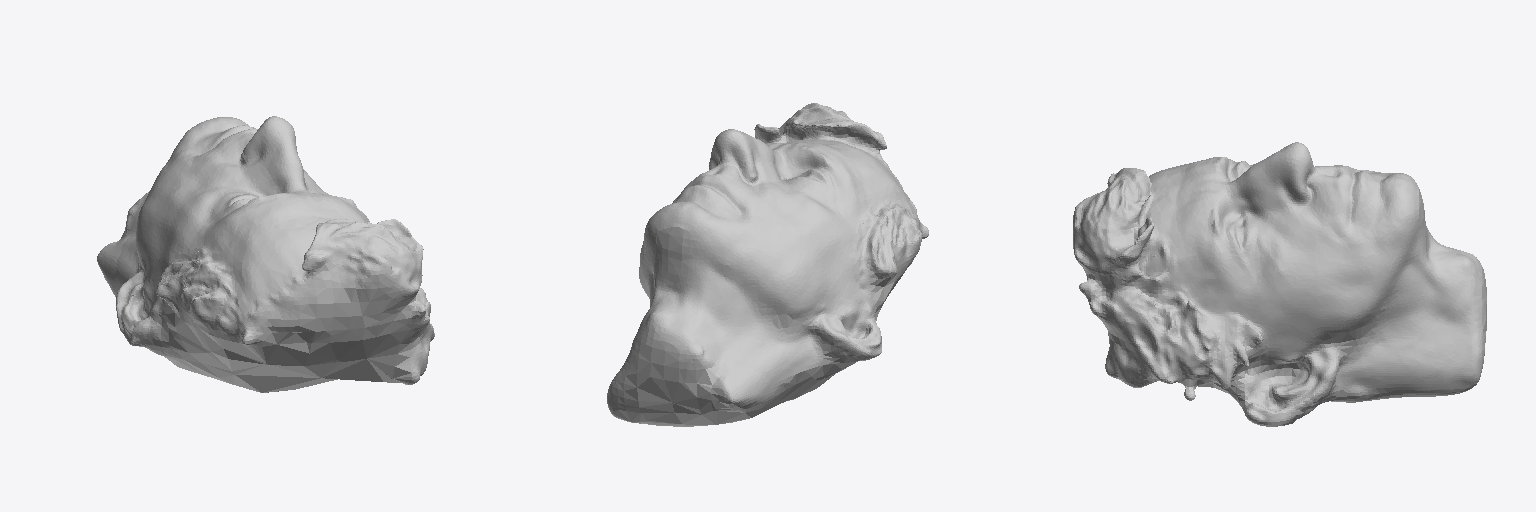
Rendered from peter_fixed.obj.
3 views of the same model, side by side, from view 1: azimuth 30°, elevation 25°; view 2: azimuth 150°, elevation 25°; view 3: azimuth 270°, elevation 25° (orthographic).
Size of the model in its own units: 190 by 190 by 284.